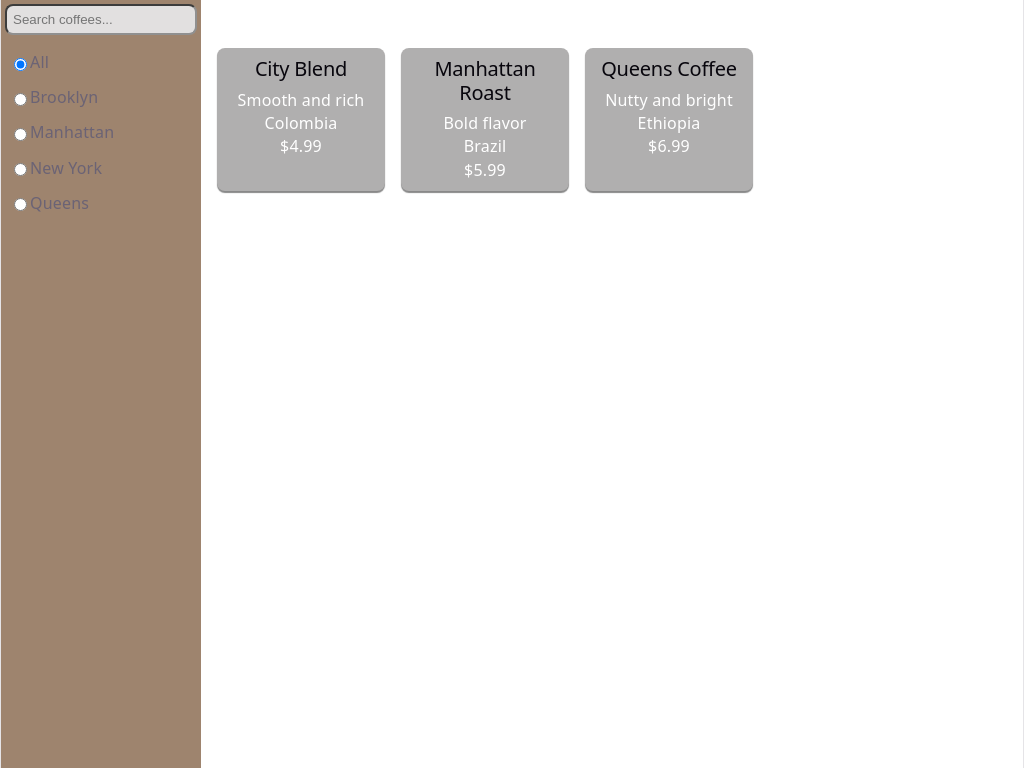
Test: ShopPage › Search filters coffees by name
Type "Manhattan" into the field with placeholder "Search coffees...".
click(101, 20); type("Manhattan")  # box [5,4,197,35]
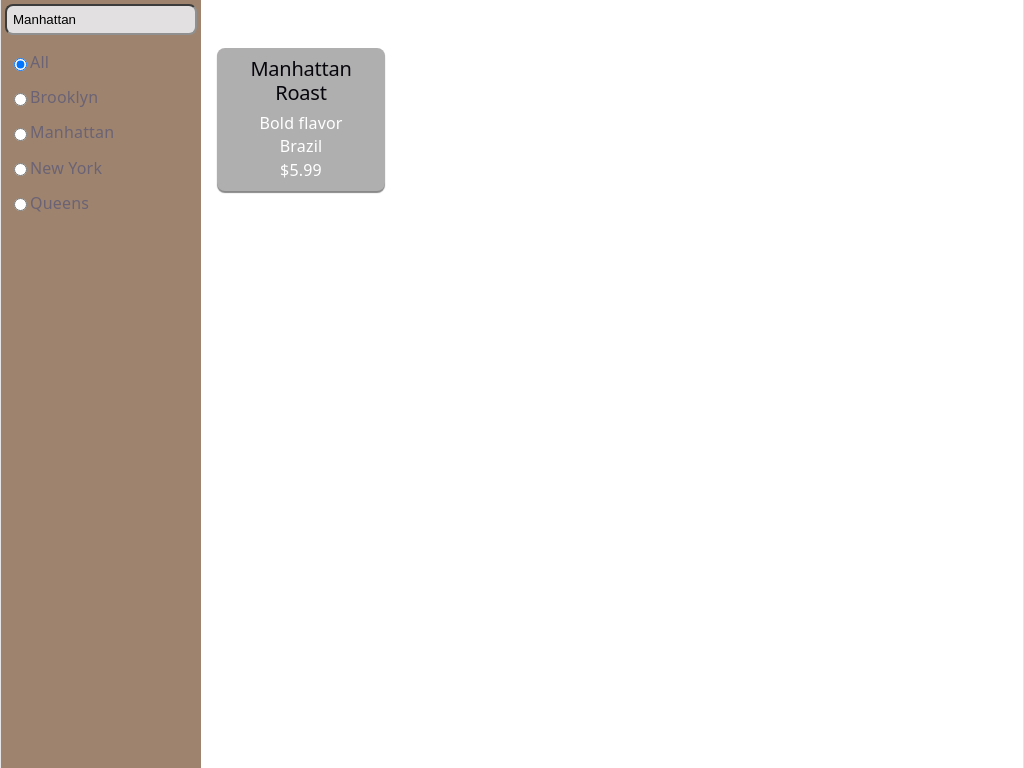
Expected: the heading "Manhattan Roast" is shown, [250,55,352,106]
Now the heading "City Blend" is gone
Now the heading "Queens Coffee" is gone
